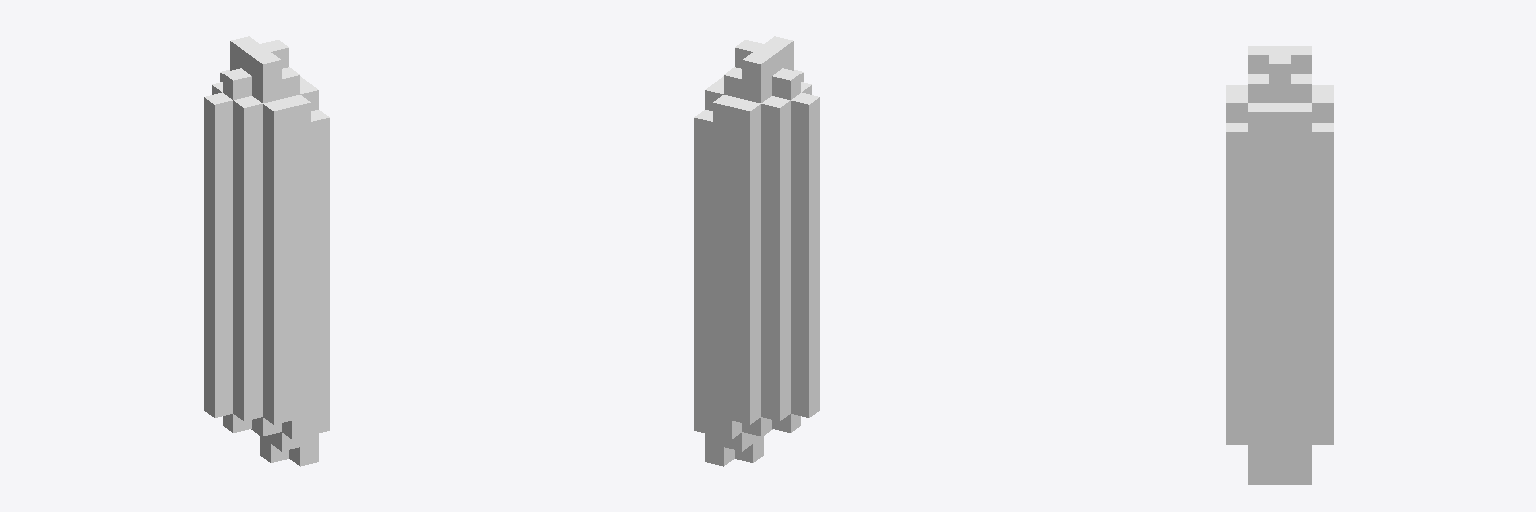
The model's file is RLeg.obj.
3 renders of one model, left to right at view 1: azimuth 30°, elevation 25°; view 2: azimuth 150°, elevation 25°; view 3: azimuth 270°, elevation 25°, orthographic.
Parts seen in each view (by area): view 1: object 1; view 2: object 1; view 3: object 1.
Boxes of the visible parts, <box> form: object 1: <box>204,36,329,466</box>; object 1: <box>694,36,819,466</box>; object 1: <box>1226,46,1333,484</box>.
Bounding box in the file's own units: 0.5 × 2.1 × 0.5.